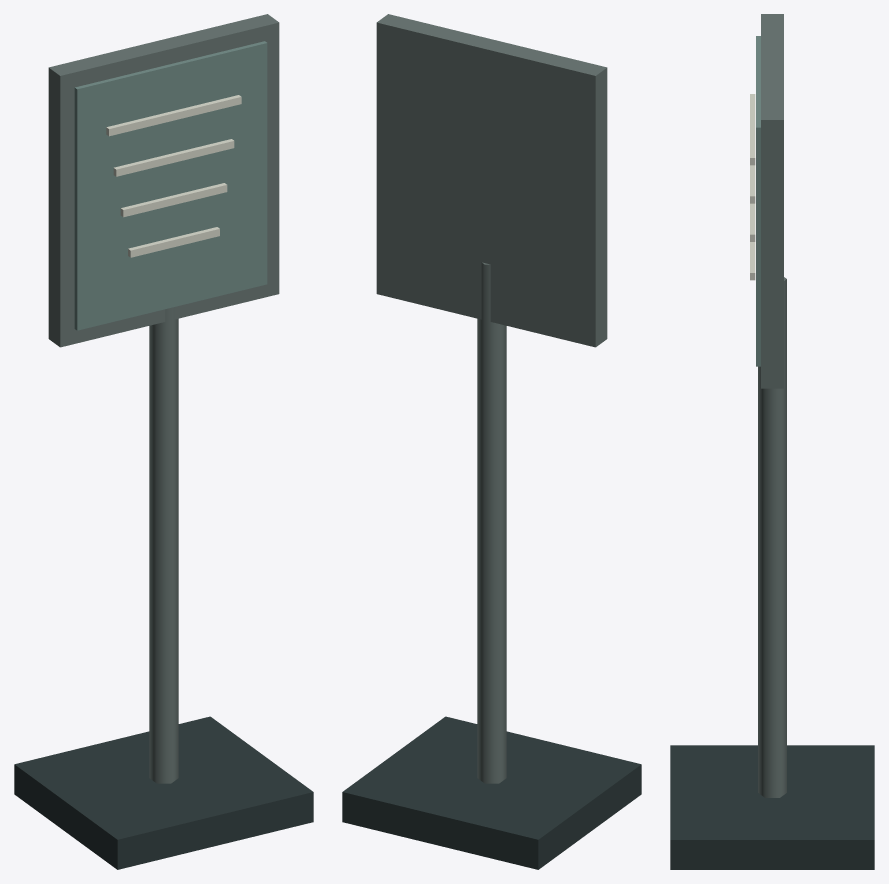
3 renders of one model, left to right at view 1: azimuth 30°, elevation 25°; view 2: azimuth 150°, elevation 25°; view 3: azimuth 270°, elevation 25°, orthographic.
Parts seen in each view (by area): view 1: part-4, part-1, part-3, part-2, part-5, part-6, part-7, part-8; view 2: part-3, part-1, part-2; view 3: part-1, part-2, part-3, part-4, part-5.
Boxes of the visible parts, x1,y1,x2,y2 form: part-4: (74,41,267,330); part-1: (14,716,313,869); part-3: (48,14,279,347); part-2: (149,307,178,783); part-5: (106,95,241,136); part-6: (113,139,234,176); part-7: (120,183,227,217); part-8: (128,227,219,257); part-3: (376,14,607,347); part-1: (342,716,641,869); part-2: (477,262,506,783); part-1: (670,745,874,869); part-2: (758,277,786,797); part-3: (761,14,783,388); part-4: (756,36,760,366); part-5: (750,94,755,165).
Size of the model in its own units: 0.38 by 1.26 by 0.31.
